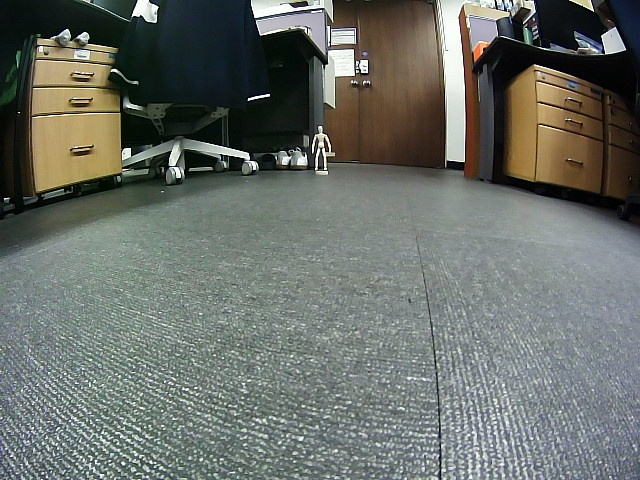person: (312, 126, 330, 171)
